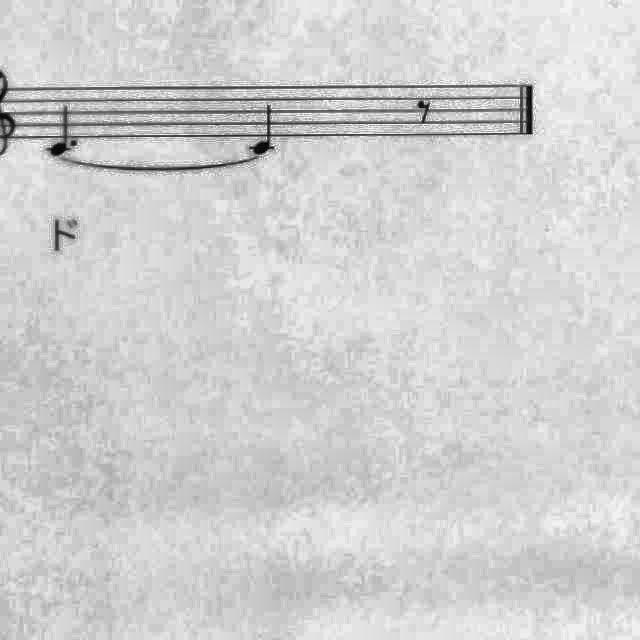Eighth-rest: (410, 90, 438, 128)
Quarter-dot: (42, 100, 86, 162)
Quarter-note: (246, 101, 286, 159)
